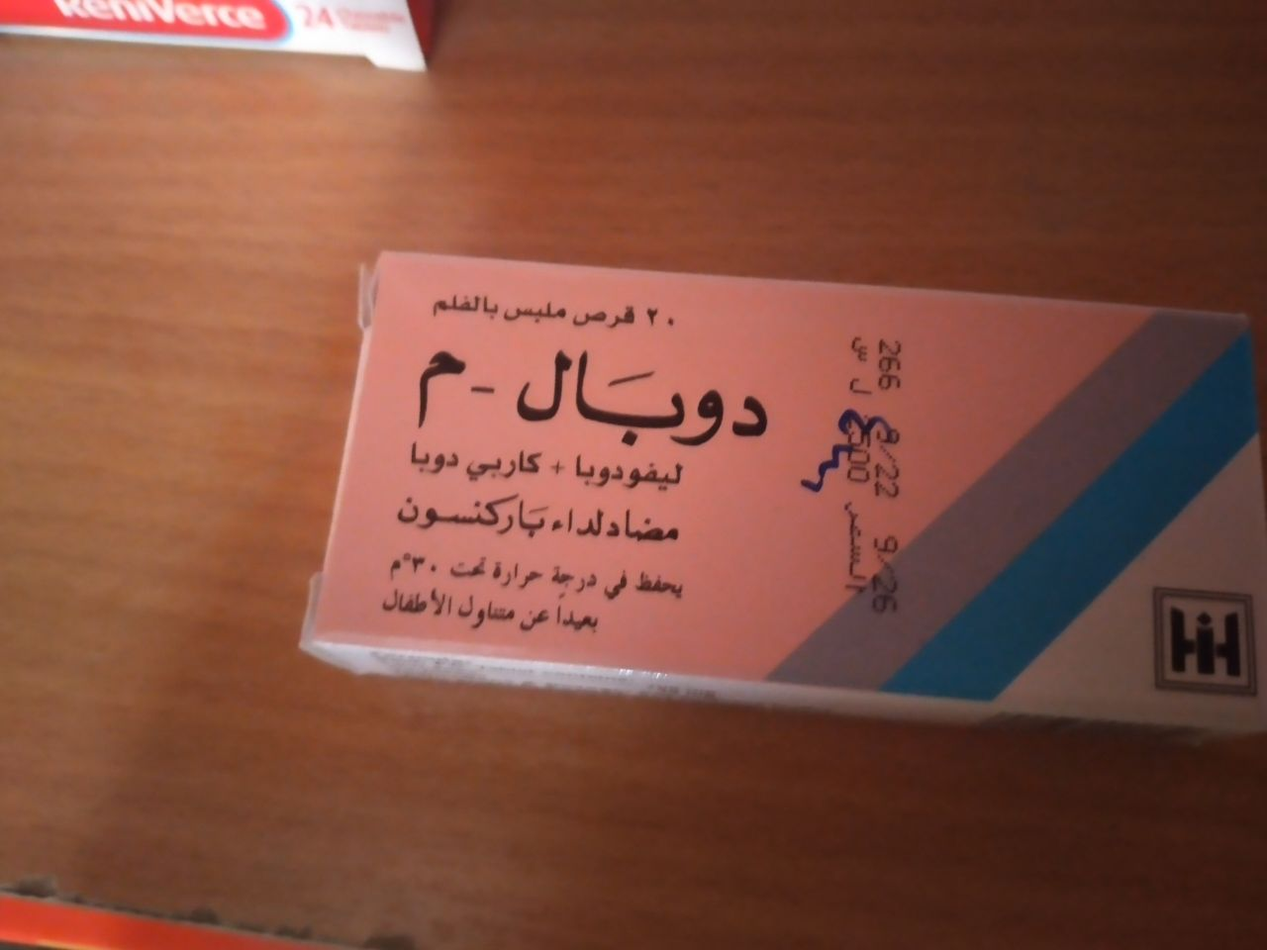Medicine: (307, 225, 1267, 750)
